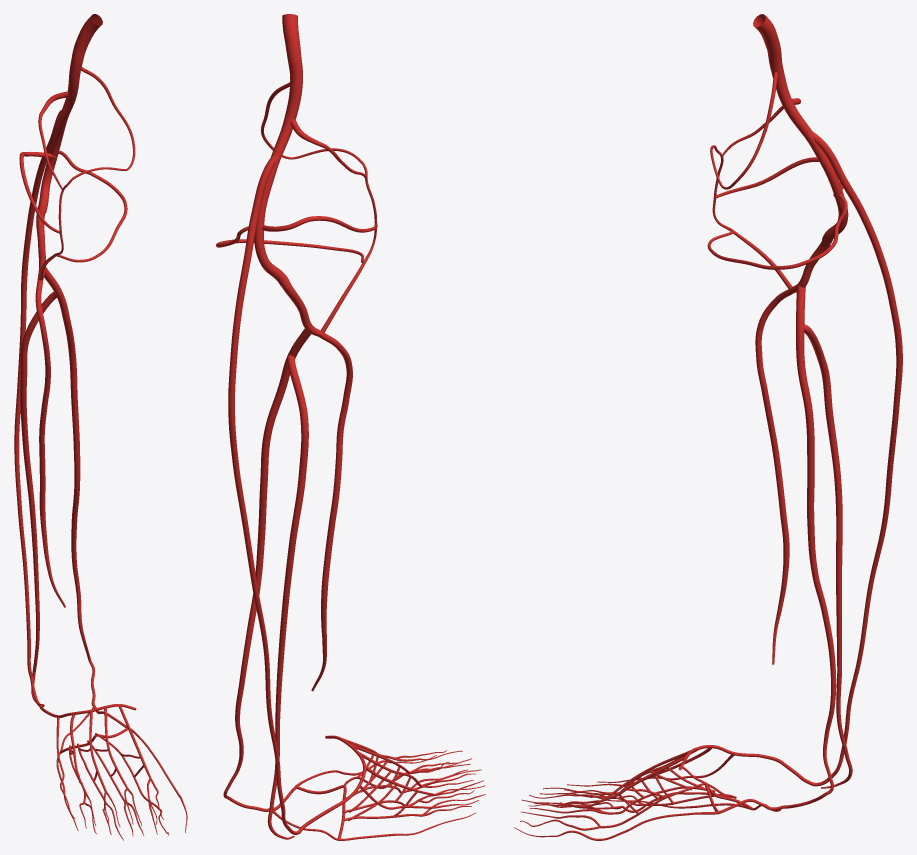
Rendered from circulatorio-popliteal-vein-r.glb.
The picture shows the model from 3 angles, left to right: view 1: azimuth 30°, elevation 25°; view 2: azimuth 150°, elevation 25°; view 3: azimuth 270°, elevation 25°; orthographic projection. The views are drawn at different scales.
Visible parts, largest first — view 1: Small saphenous vein.r, Posterior tibial veins.r, Genicular veins.r, Fibular veins.r, Anterior tibial veins.r, Popliteal vein.r, Dorsal metatarsal veins.r, Plantar digital veins.r, Plantar metatarsal veins.r, Dorsal digital veins of foot.r; view 2: Small saphenous vein.r, Posterior tibial veins.r, Fibular veins.r, Popliteal vein.r, Anterior tibial veins.r, Genicular veins.r, Plantar digital veins.r, Dorsal metatarsal veins.r, Dorsal digital veins of foot.r, Intercapitular veins of foot.r, Plantar metatarsal veins.r; view 3: Small saphenous vein.r, Posterior tibial veins.r, Fibular veins.r, Genicular veins.r, Anterior tibial veins.r, Popliteal vein.r, Plantar digital veins.r, Dorsal metatarsal veins.r, Plantar metatarsal veins.r, Dorsal digital veins of foot.r, Intercapitular veins of foot.r.
Boxes of the visible parts, <box> form: Small saphenous vein.r: <box>14,110,61,707</box>; Posterior tibial veins.r: <box>44,267,95,705</box>; Genicular veins.r: <box>19,67,135,280</box>; Fibular veins.r: <box>20,291,56,703</box>; Anterior tibial veins.r: <box>35,211,65,607</box>; Popliteal vein.r: <box>37,14,102,212</box>; Dorsal metatarsal veins.r: <box>56,704,151,794</box>; Plantar digital veins.r: <box>56,752,187,840</box>; Plantar metatarsal veins.r: <box>68,733,148,801</box>; Dorsal digital veins of foot.r: <box>62,777,164,827</box>; Small saphenous vein.r: <box>228,155,331,834</box>; Posterior tibial veins.r: <box>223,328,311,811</box>; Fibular veins.r: <box>267,354,308,839</box>; Popliteal vein.r: <box>254,14,302,285</box>; Anterior tibial veins.r: <box>281,282,352,691</box>; Genicular veins.r: <box>216,82,377,333</box>; Plantar digital veins.r: <box>339,755,485,840</box>; Dorsal metatarsal veins.r: <box>343,738,443,809</box>; Dorsal digital veins of foot.r: <box>389,750,484,806</box>; Intercapitular veins of foot.r: <box>348,755,417,821</box>; Plantar metatarsal veins.r: <box>342,776,422,821</box>; Small saphenous vein.r: <box>781,131,902,786</box>; Posterior tibial veins.r: <box>784,285,836,808</box>; Fibular veins.r: <box>803,324,852,788</box>; Genicular veins.r: <box>707,72,847,289</box>; Anterior tibial veins.r: <box>755,241,830,664</box>; Popliteal vein.r: <box>753,14,848,244</box>; Plantar digital veins.r: <box>514,793,749,840</box>; Dorsal metatarsal veins.r: <box>600,748,734,802</box>; Plantar metatarsal veins.r: <box>600,782,736,828</box>; Dorsal digital veins of foot.r: <box>522,778,639,807</box>; Intercapitular veins of foot.r: <box>619,766,731,813</box>.
Bounding box in the file's own units: 0.1099 × 0.5683 × 0.2404.
